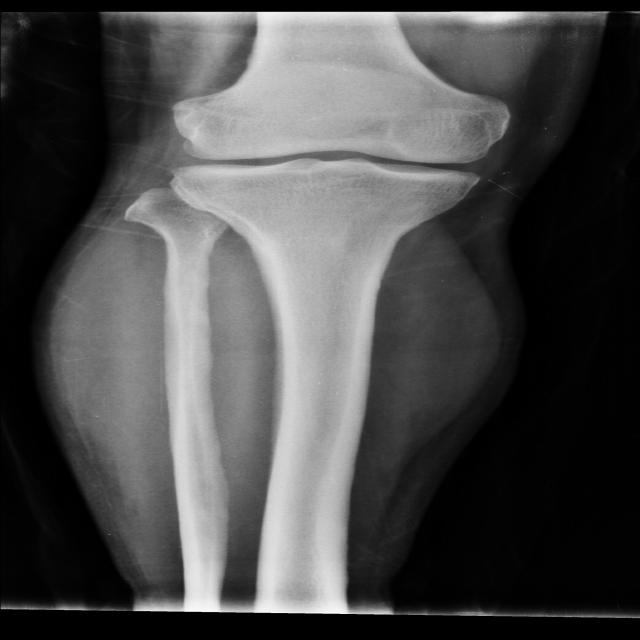normal: (166, 89, 512, 200)
